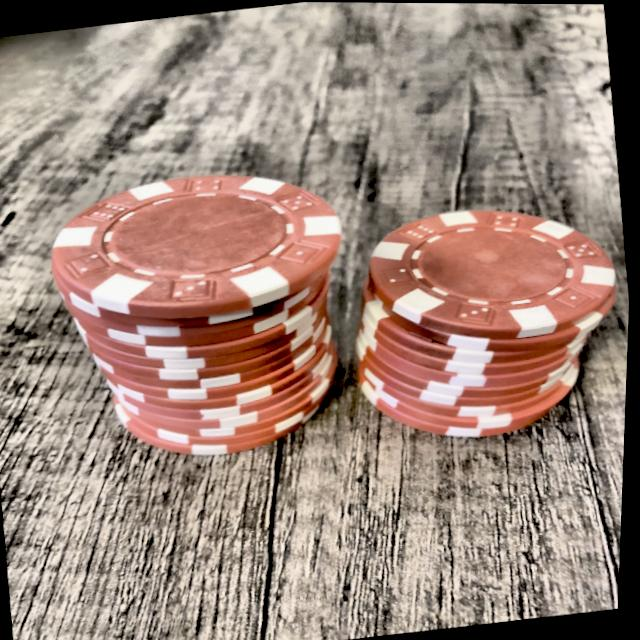Chip: (38, 155, 368, 475), (334, 189, 635, 454)
